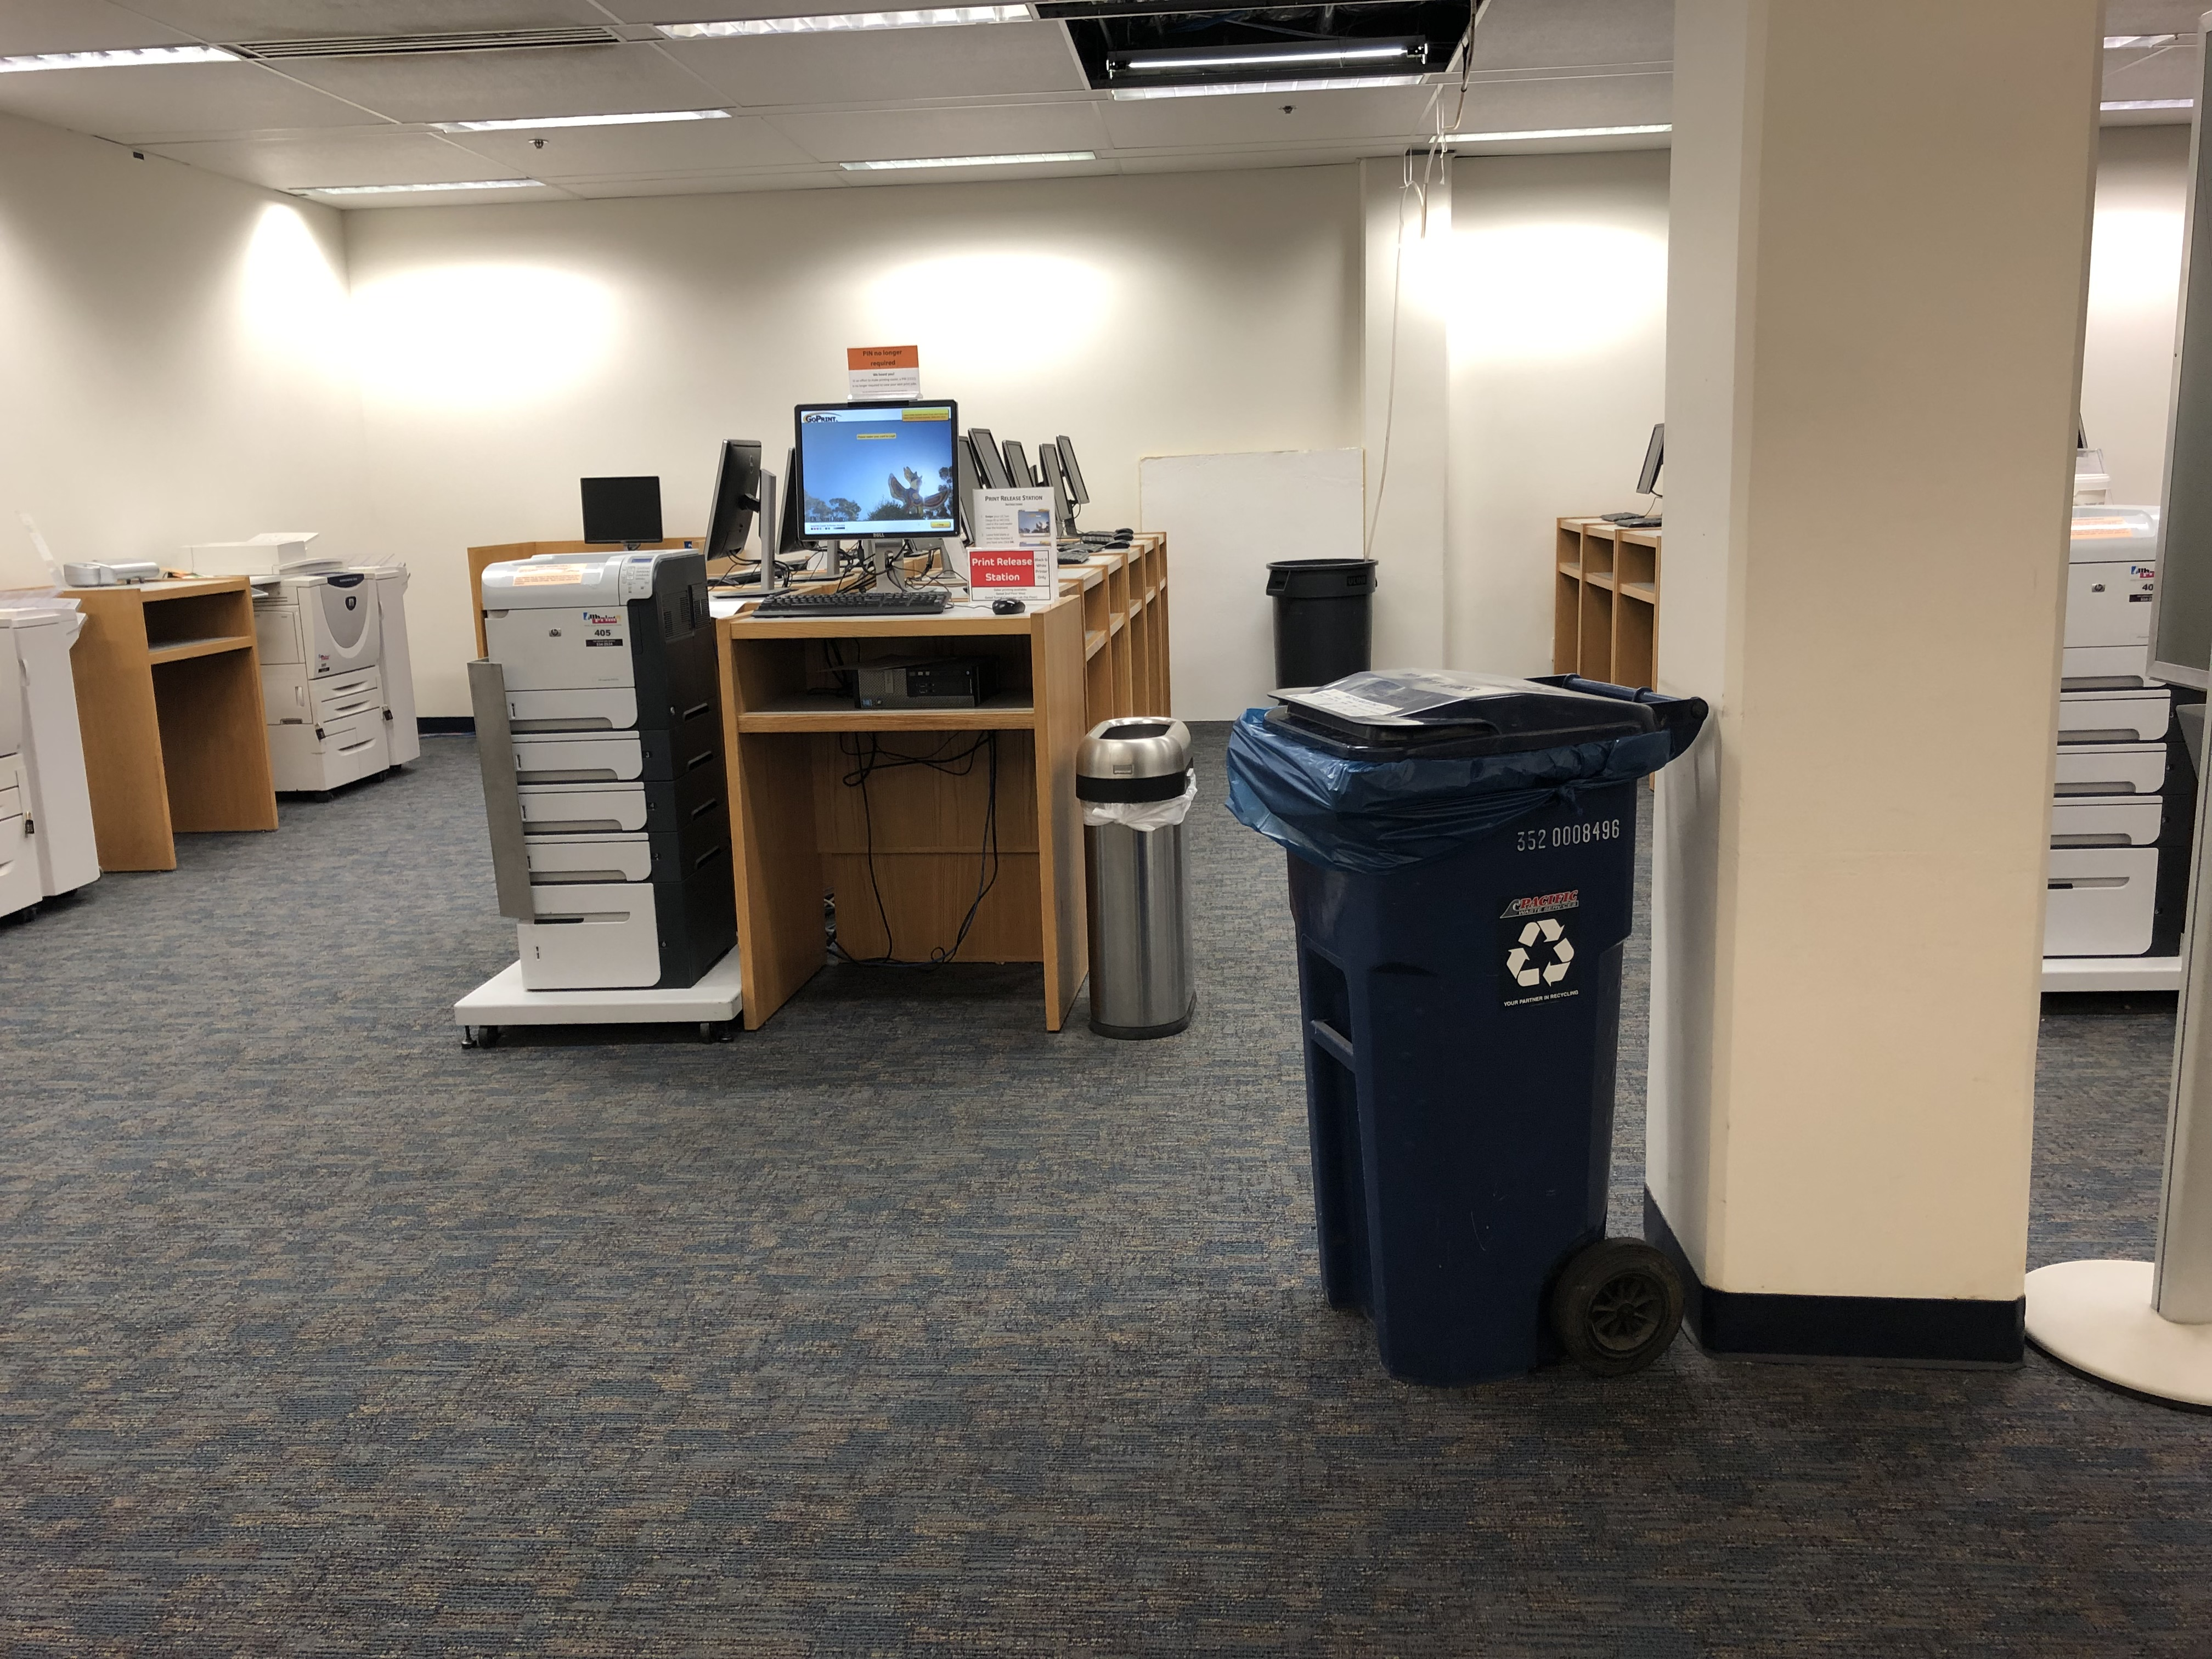Obstacle: (1676, 24, 2047, 1305), (446, 481, 1177, 1047), (1270, 692, 1620, 1345), (5, 530, 423, 922)
